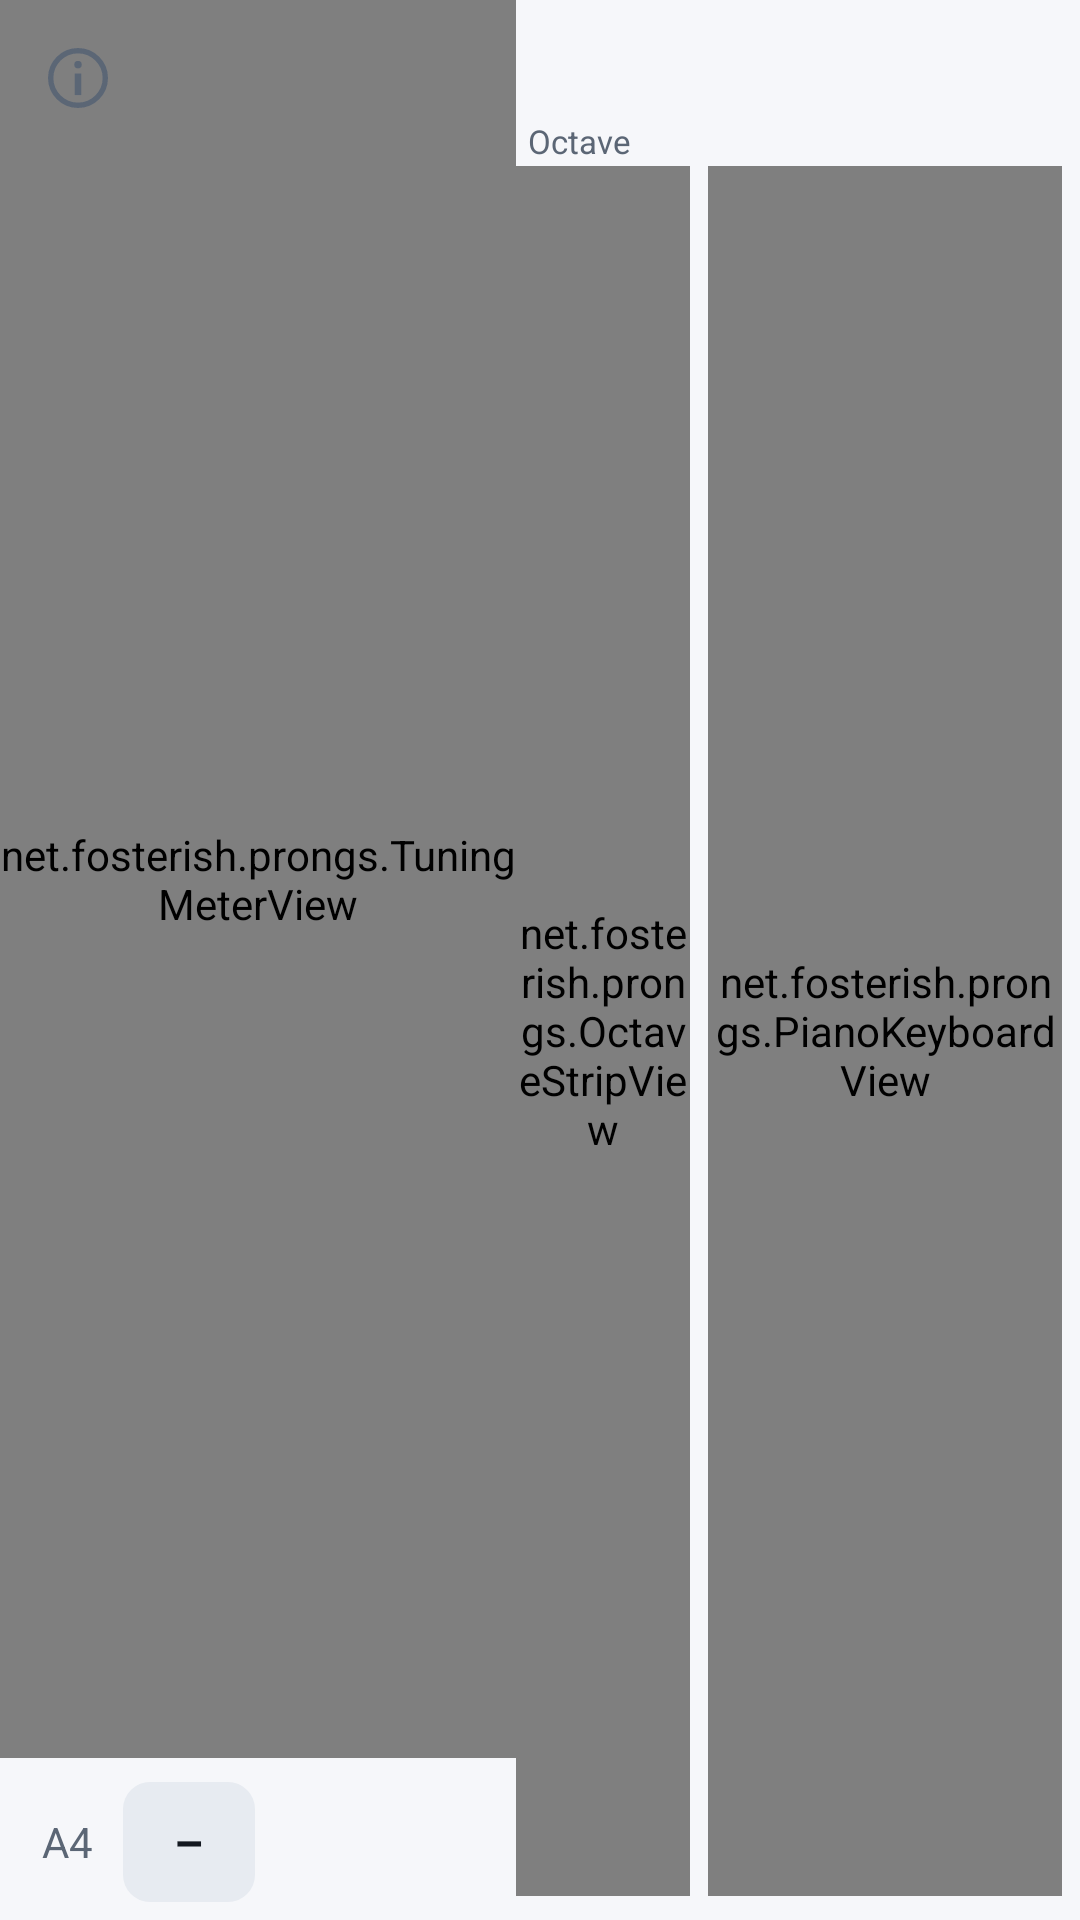

Locate icon controls on the screen. Image size 1080×1920, boxes as (x1, y1, x2, y2).
About Prongs: (48, 48, 108, 108)
